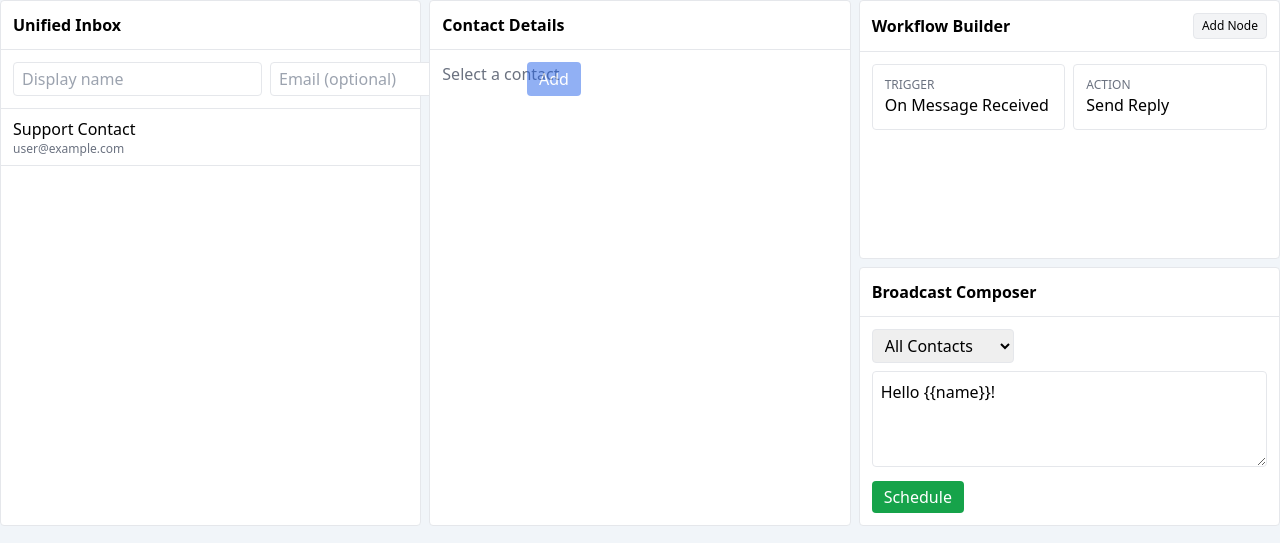
Test: InboxPage › selects a contact and shows messages
This screenshot has width=1280, height=543.
Click the text "Support Contact": (74, 129) [13,118,136,140]
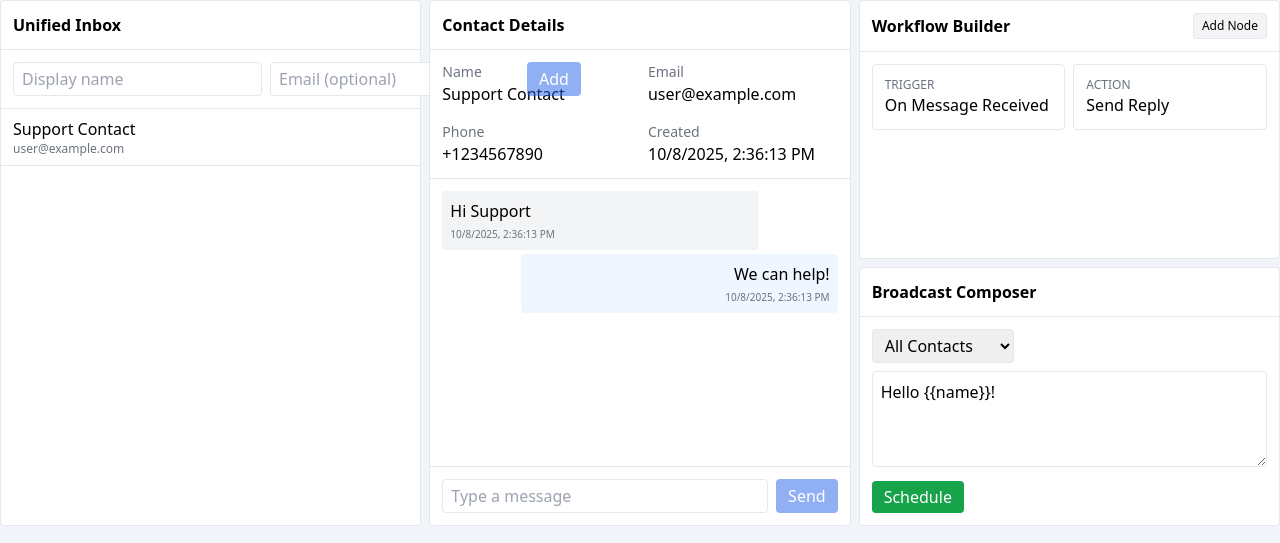
Expected: the heading "Contact Details" is shown, [442,14,564,36]
Expected: the list item "We can help!" is shown, [734,263,830,285]
